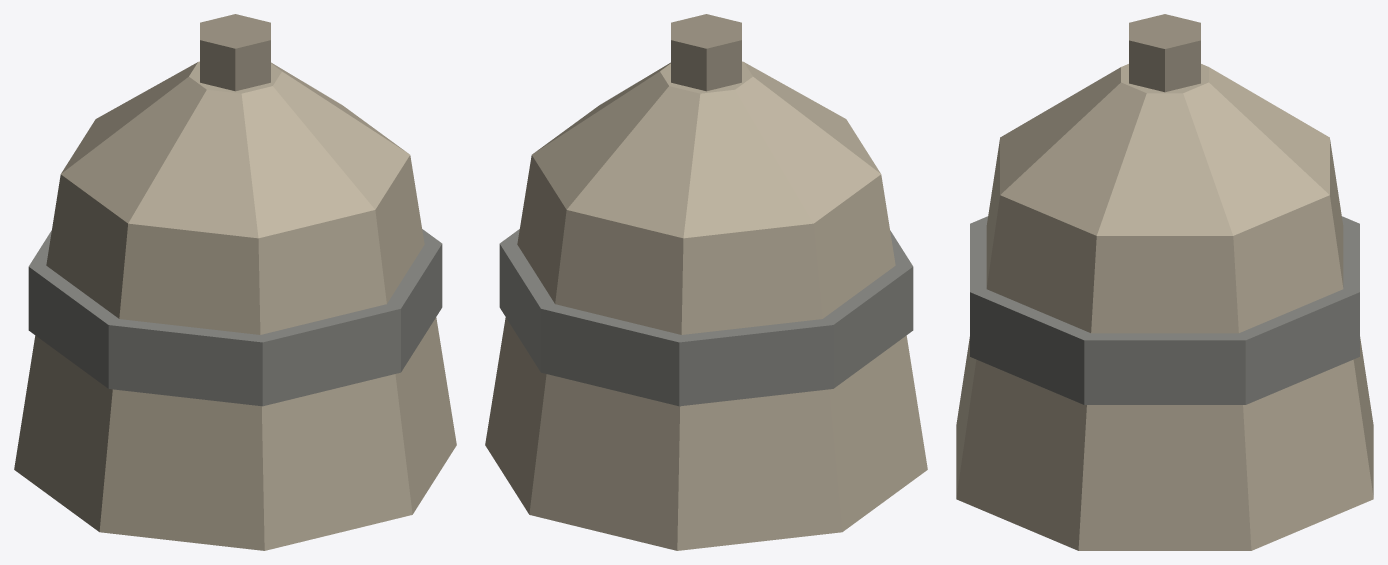
The model's file is cement.glb.
3 renders of one model, left to right at view 1: azimuth 30°, elevation 25°; view 2: azimuth 150°, elevation 25°; view 3: azimuth 270°, elevation 25°, orthographic.
Visible parts, largest first — view 1: cement; view 2: cement; view 3: cement.
Boxes of the visible parts, x1=… form: cement: x1=14, y1=14, x2=456, y2=550; cement: x1=485, y1=14, x2=927, y2=550; cement: x1=956, y1=14, x2=1373, y2=550.
Size of the model in its own units: 0.7022 by 0.8 by 0.7022.
